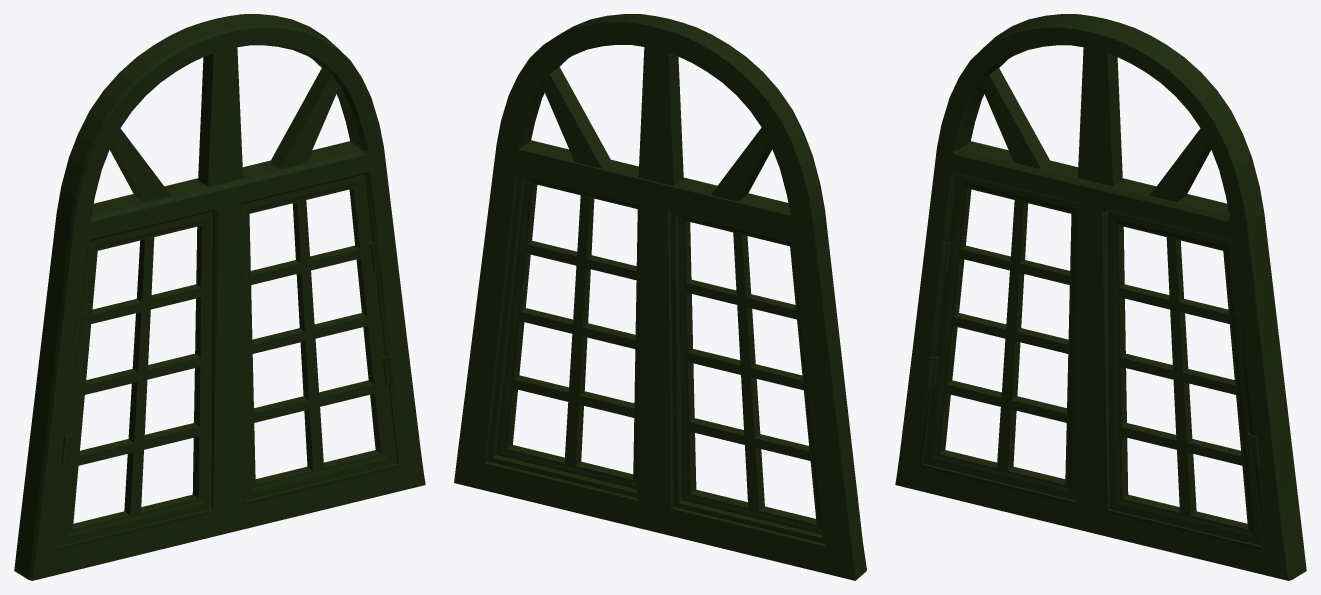
Rendered from MSG_Lr_window.FBX.
3 renders of one model, left to right at view 1: azimuth 30°, elevation 25°; view 2: azimuth 150°, elevation 25°; view 3: azimuth 330°, elevation 25°, orthographic.
Parts seen in each view (by area): view 1: Cylinder021; view 2: Cylinder021; view 3: Cylinder021.
Part boxes in pixels (bbox=[...]): Cylinder021: bbox=[14, 14, 425, 580]; Cylinder021: bbox=[454, 14, 866, 580]; Cylinder021: bbox=[895, 14, 1306, 580].
Size of the model in its own units: 207 by 249 by 14.1.
